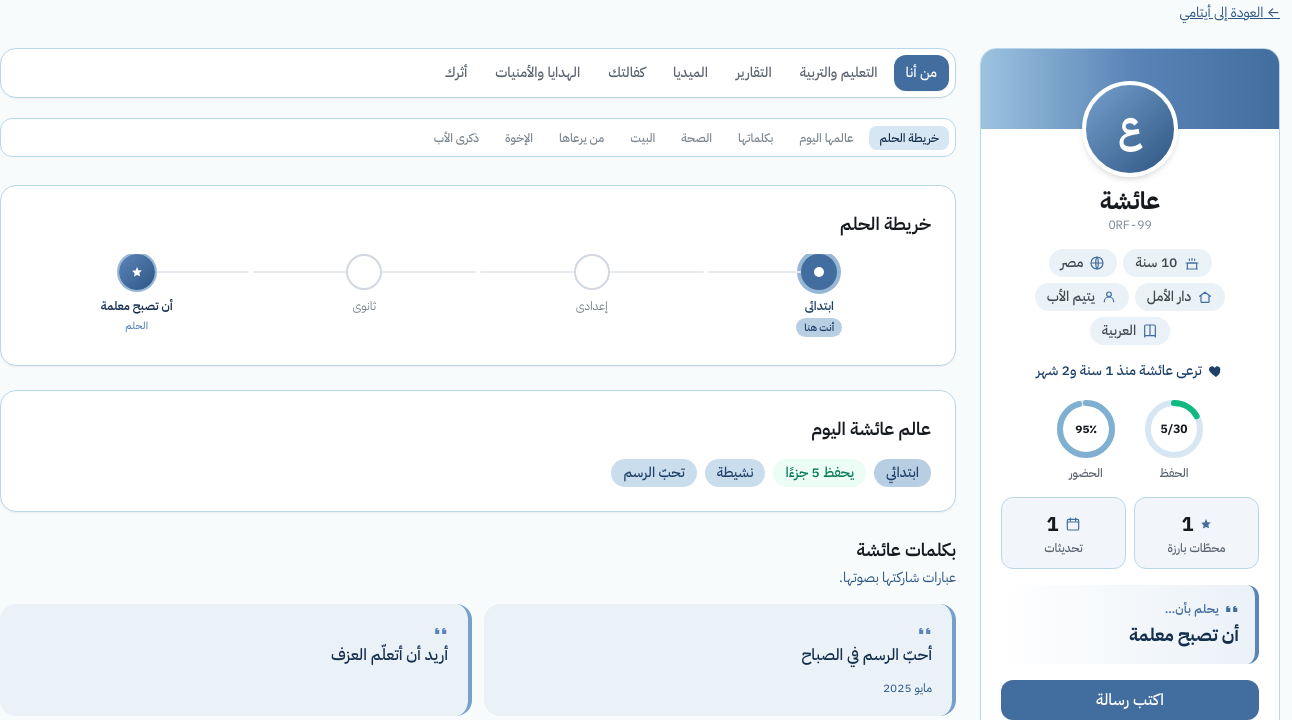
DonorOrphanDetailPage — composed donor profile › renders the education-and-growth blocks in their tab
This screenshot has width=1292, height=720.
Step 1. Click the tab "التعليم والتربية" → (839, 73), box [788,55,890,91]
(page scrolled)
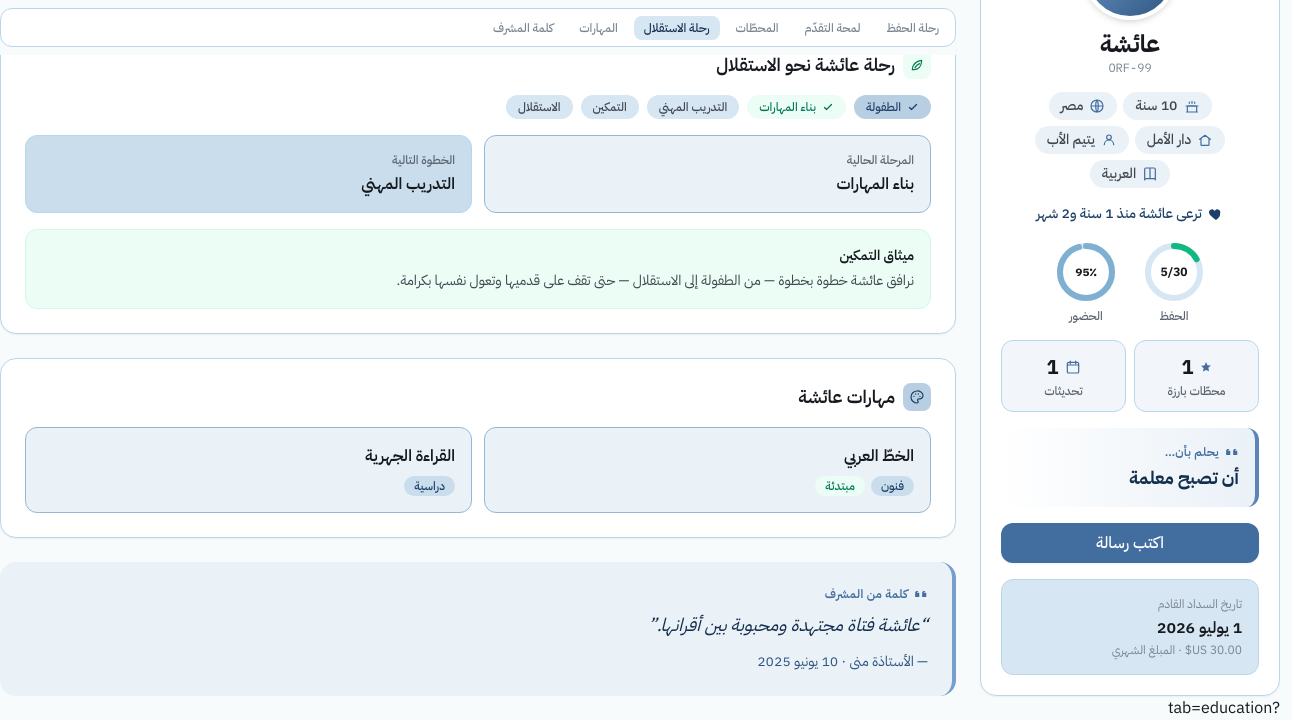
expect the text "كلمة من المشرف" is shown: met, box [825,585,928,603]
expect the text "“عائشة فتاة مجتهدة ومحبوبة بين أقرانها.”" is shown: met, box [648,611,928,638]
expect the text "الأستاذة منى" is shown: met, box [757,650,928,672]
